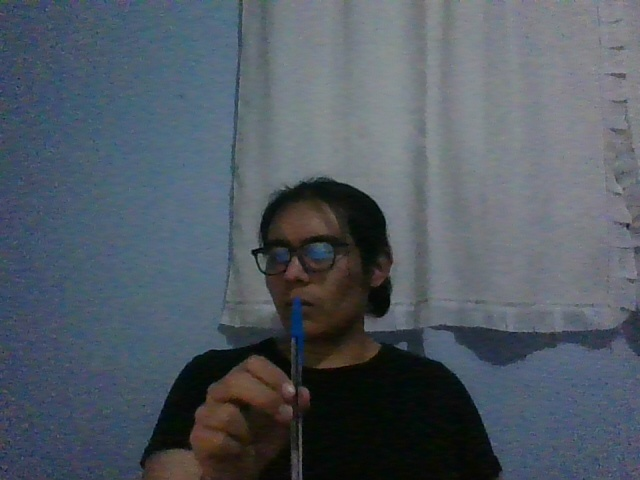pluma: (288, 296, 303, 480)
